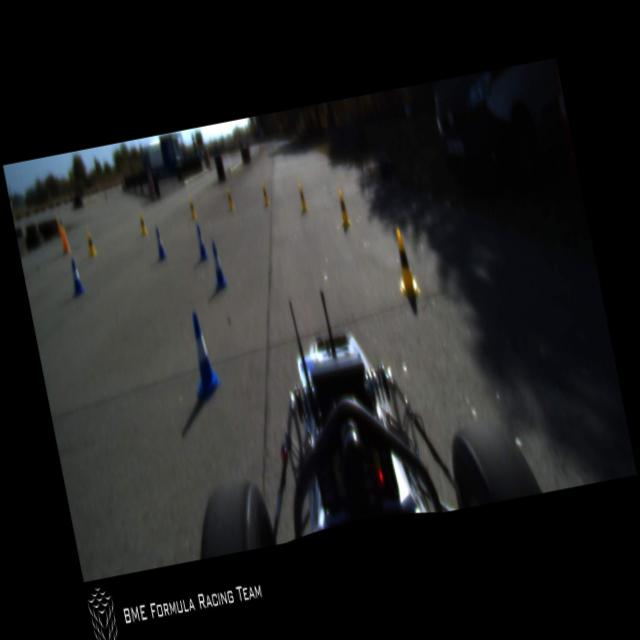blue_cone: (181, 308, 223, 404), (206, 241, 228, 288), (192, 224, 210, 262), (68, 258, 84, 296), (152, 227, 166, 262)
yellow_cone: (390, 228, 420, 298), (334, 188, 352, 228), (296, 180, 308, 212), (85, 230, 97, 257), (137, 210, 148, 236), (187, 194, 197, 220), (260, 181, 270, 206), (226, 187, 234, 211)
